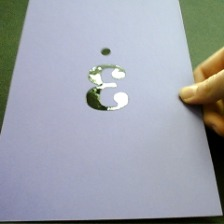violet3: (73, 43, 134, 118)
